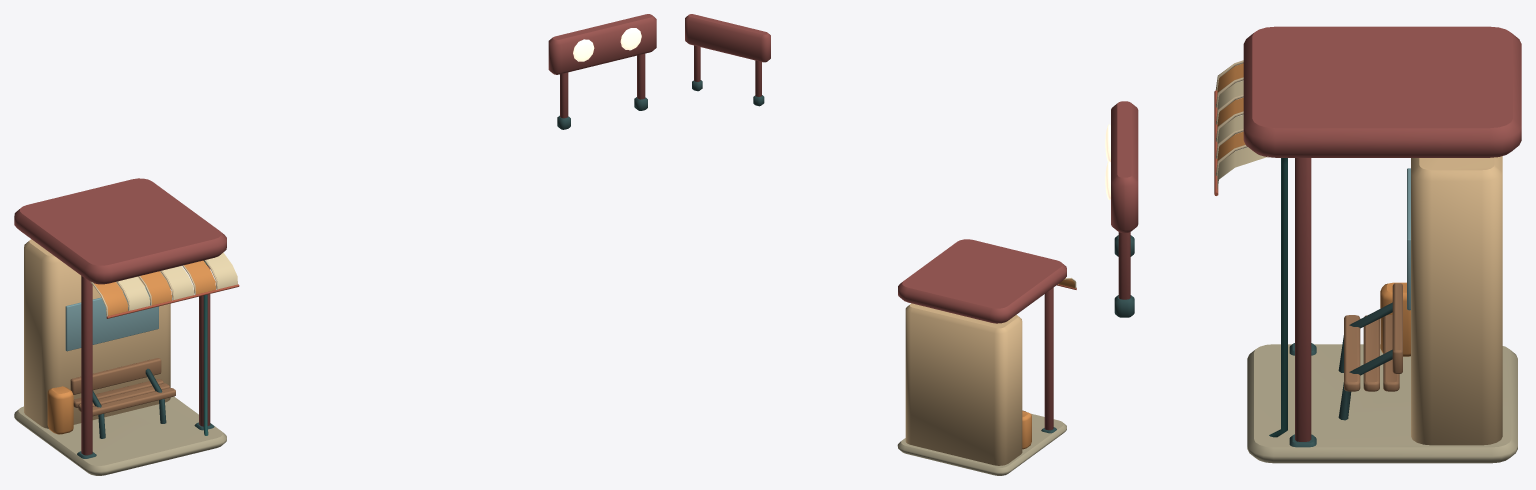
Rendered from route66_motel_4.glb.
The picture shows the model from 3 angles, left to right: view 1: azimuth 30°, elevation 25°; view 2: azimuth 150°, elevation 25°; view 3: azimuth 270°, elevation 25°; orthographic projection. The views are drawn at different scales.
Visible parts, largest first — view 1: Route66Motel4; view 2: Route66Motel4; view 3: Route66Motel4.
Part boxes in pixels (left/top/right/bottom): Route66Motel4: left=14, top=14, right=656, bottom=475; Route66Motel4: left=685, top=14, right=1076, bottom=475; Route66Motel4: left=1105, top=26, right=1521, bottom=463.
Bounding box in the file's own units: 8.82 × 5.9 × 3.82.
